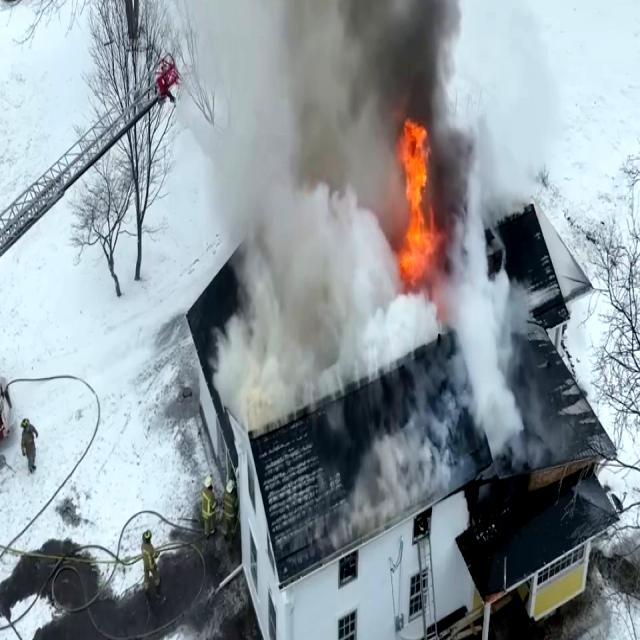fire: (392, 125, 454, 311)
smoke: (229, 0, 404, 102)
